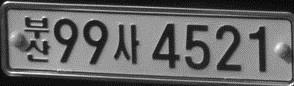1: (246, 25, 274, 72)
2: (214, 23, 242, 72)
4: (151, 22, 180, 68)
5: (183, 23, 210, 70)
9: (81, 18, 109, 64), (52, 17, 79, 63)
부산_V: (23, 15, 51, 63)
사: (112, 23, 140, 64)
